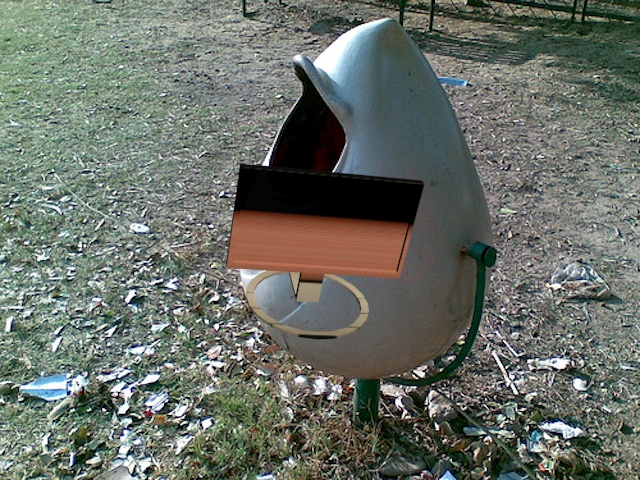monitor: (224, 161, 432, 352)
